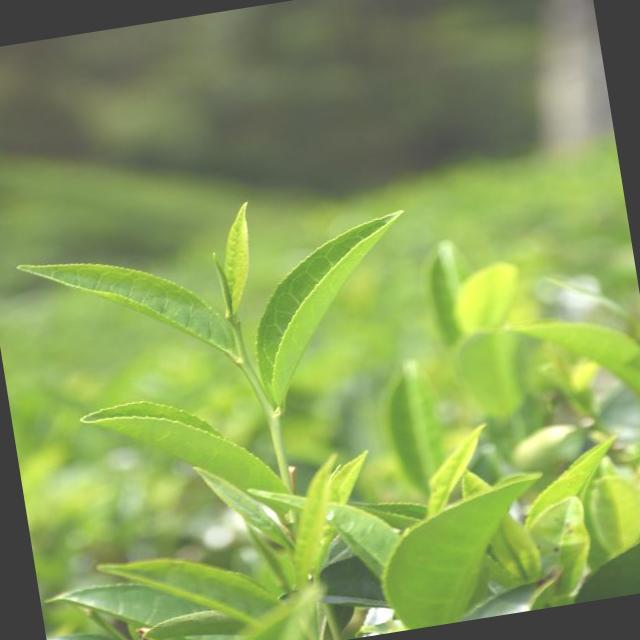Stem: (238, 358, 273, 413)
